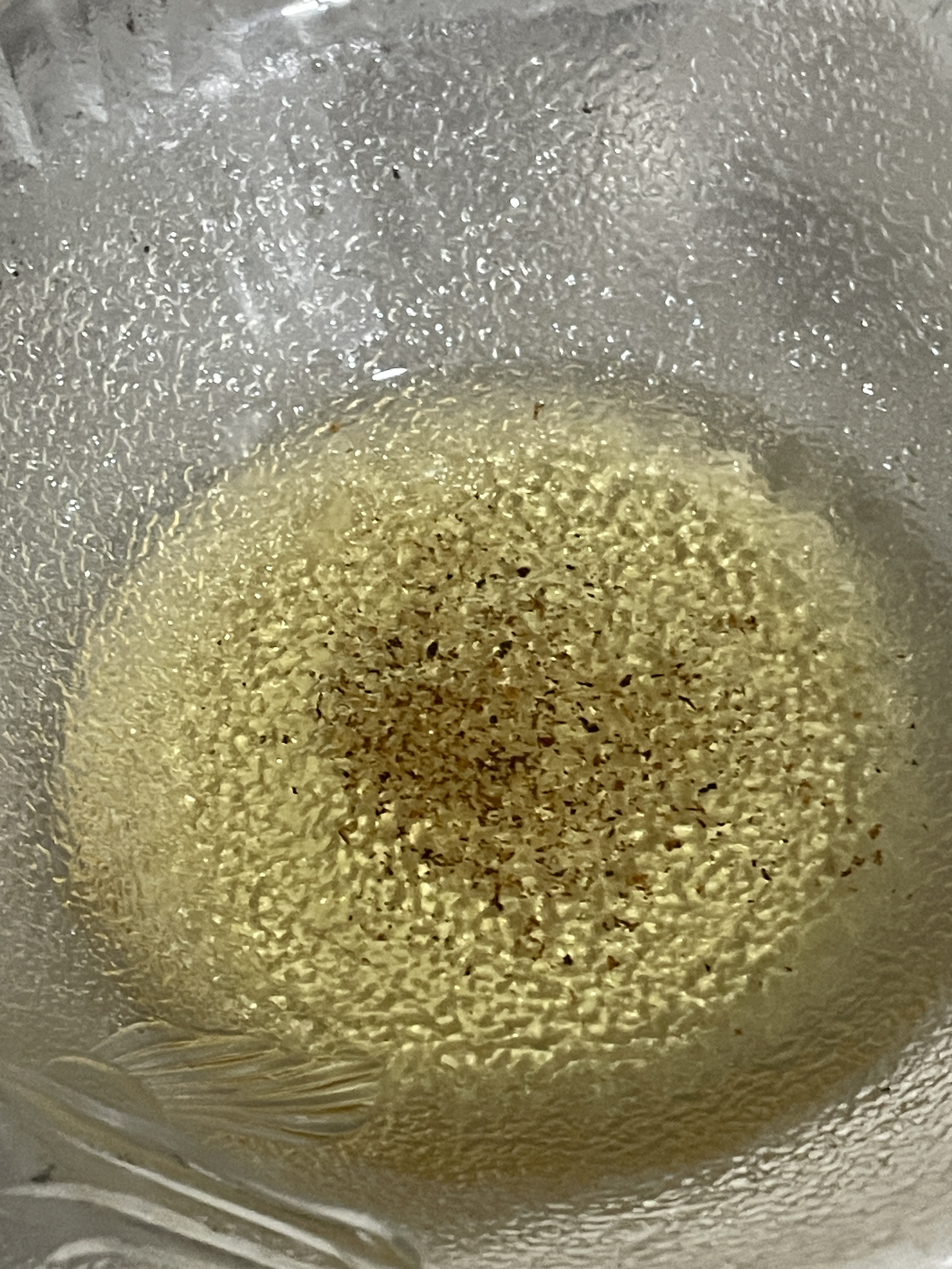reusable: (0, 400, 952, 1177)
